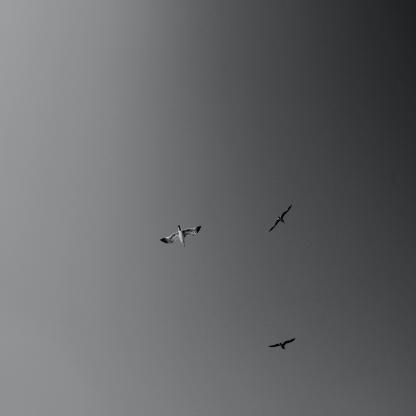bird: (159, 224, 202, 247), (268, 204, 293, 232), (268, 338, 296, 350)
